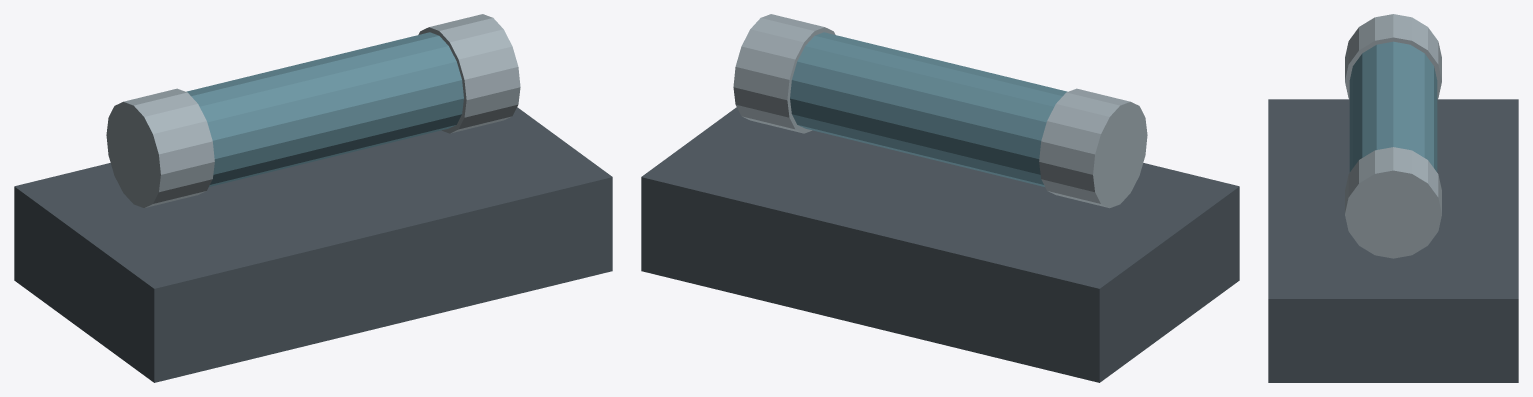
Rendered from fuse_module_lod2.glb.
3 views of the same model, side by side, from view 1: azimuth 30°, elevation 25°; view 2: azimuth 150°, elevation 25°; view 3: azimuth 270°, elevation 25° (orthographic). The views are drawn at different scales.
Parts seen in each view (by area): view 1: FUSE_BASE_MAT_POLYMER_BLACK, FUSE_GLASS_MAT_GLASS, FUSE_CAP_-0.34_MAT_METAL_BRUSHED, FUSE_CAP_0.34_MAT_METAL_BRUSHED; view 2: FUSE_BASE_MAT_POLYMER_BLACK, FUSE_GLASS_MAT_GLASS, FUSE_CAP_-0.34_MAT_METAL_BRUSHED, FUSE_CAP_0.34_MAT_METAL_BRUSHED; view 3: FUSE_BASE_MAT_POLYMER_BLACK, FUSE_GLASS_MAT_GLASS, FUSE_CAP_0.34_MAT_METAL_BRUSHED, FUSE_CAP_-0.34_MAT_METAL_BRUSHED.
Boxes of the visible parts, x1,y1,x2,y2 form: FUSE_BASE_MAT_POLYMER_BLACK: [14, 107, 612, 382]; FUSE_GLASS_MAT_GLASS: [186, 32, 463, 186]; FUSE_CAP_-0.34_MAT_METAL_BRUSHED: [106, 88, 214, 208]; FUSE_CAP_0.34_MAT_METAL_BRUSHED: [418, 14, 520, 133]; FUSE_BASE_MAT_POLYMER_BLACK: [641, 107, 1239, 382]; FUSE_GLASS_MAT_GLASS: [790, 32, 1067, 186]; FUSE_CAP_-0.34_MAT_METAL_BRUSHED: [1039, 88, 1147, 208]; FUSE_CAP_0.34_MAT_METAL_BRUSHED: [733, 14, 835, 133]; FUSE_BASE_MAT_POLYMER_BLACK: [1268, 99, 1518, 382]; FUSE_GLASS_MAT_GLASS: [1349, 41, 1437, 172]; FUSE_CAP_0.34_MAT_METAL_BRUSHED: [1345, 147, 1441, 258]; FUSE_CAP_-0.34_MAT_METAL_BRUSHED: [1345, 14, 1441, 99].
Bounding box in the file's own units: 1.02 × 0.455 × 0.54.
